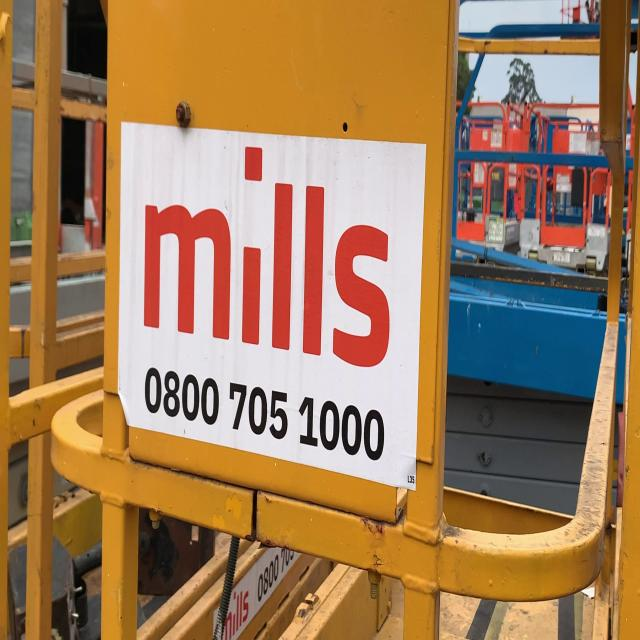Adesivos: (116, 118, 430, 495)
